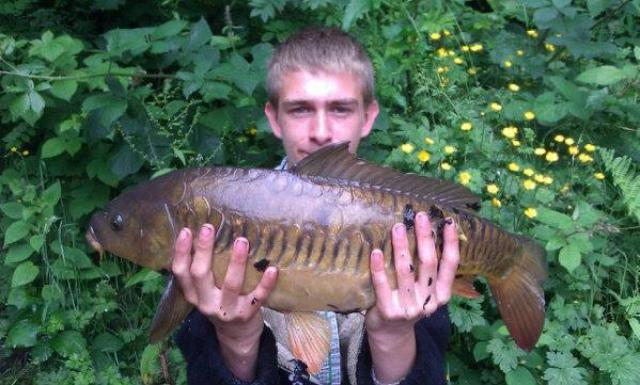Mulut: (76, 208, 114, 270)
Sirip Anal: (452, 258, 483, 308)
Sirip Dada: (140, 258, 206, 352)
Sirip Ekor: (490, 224, 558, 366)
Sirip Perut: (275, 306, 343, 380)
Sirip Punggung: (288, 136, 482, 214)
